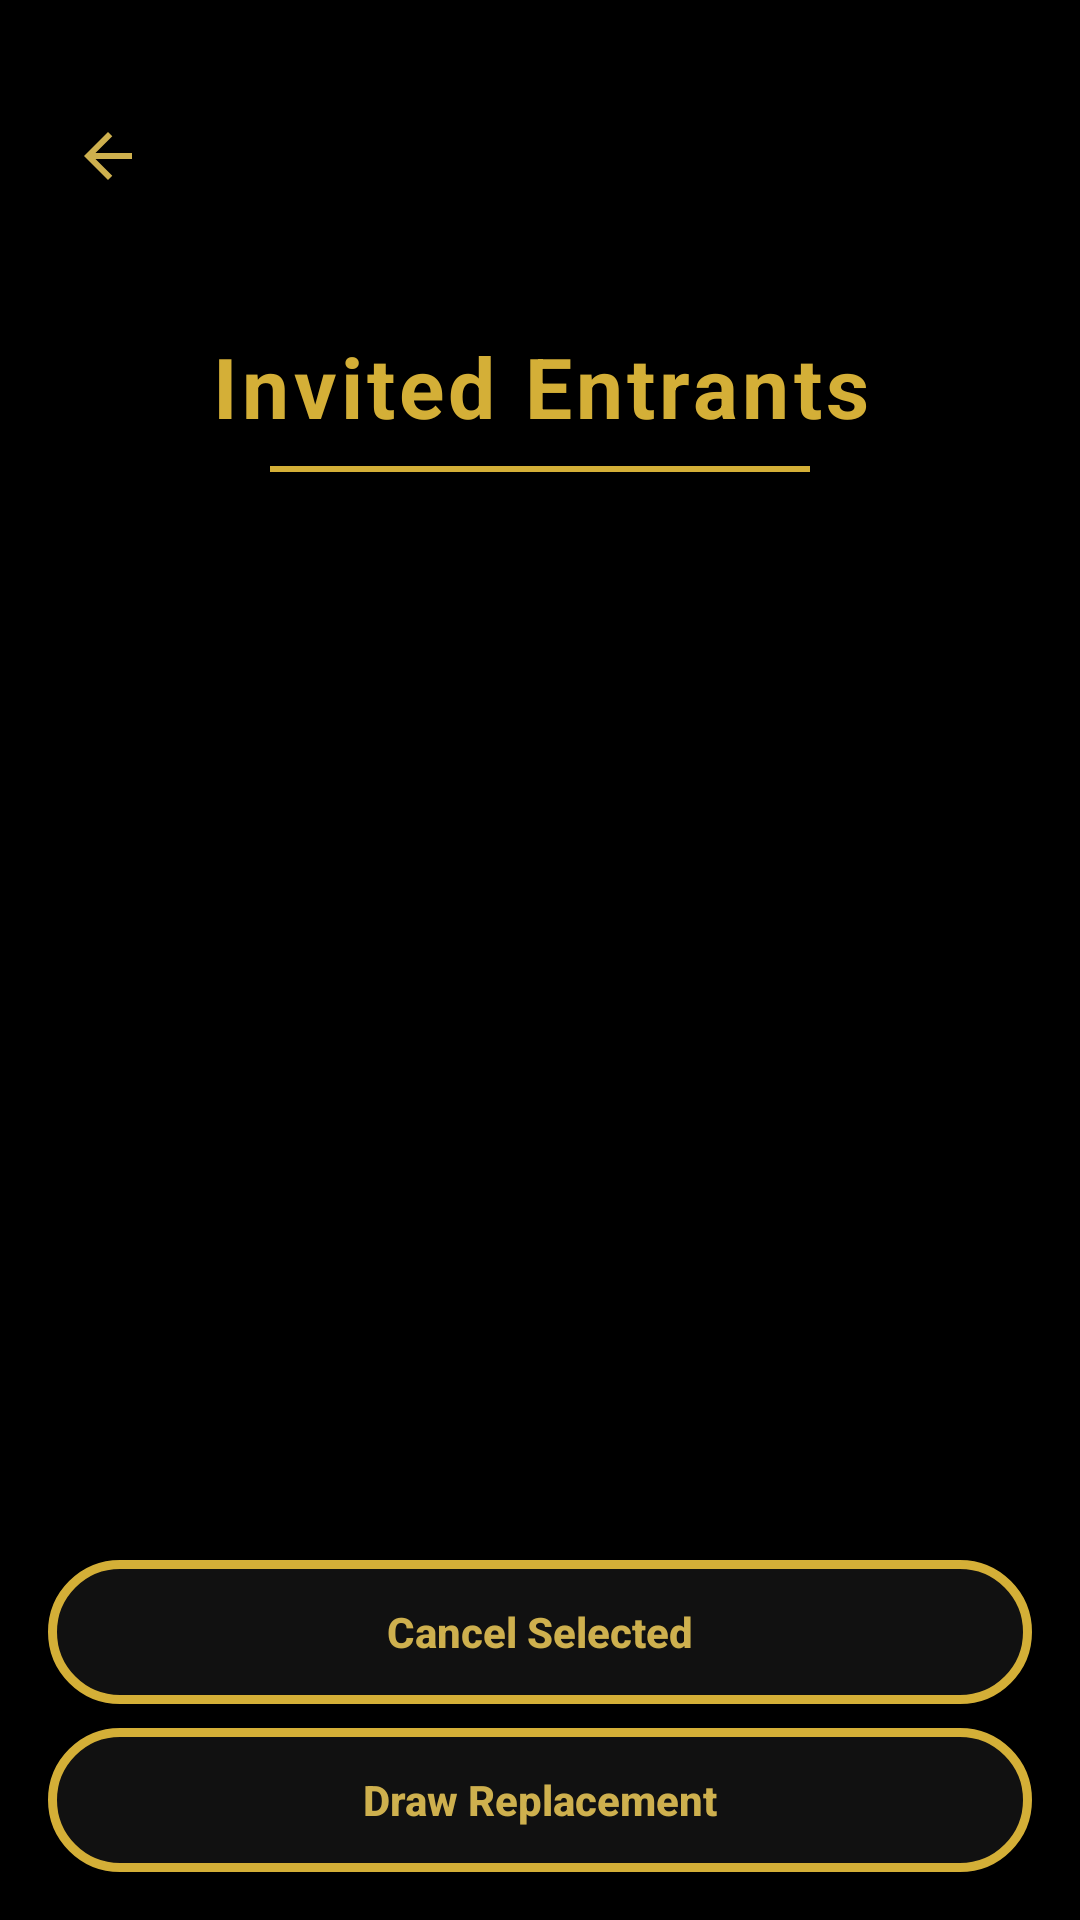

Named icons in this screenshot (1080w x 1920h) and their bounding boxes, (x1, y1, x2, y2):
Back: (84, 132, 132, 180)
